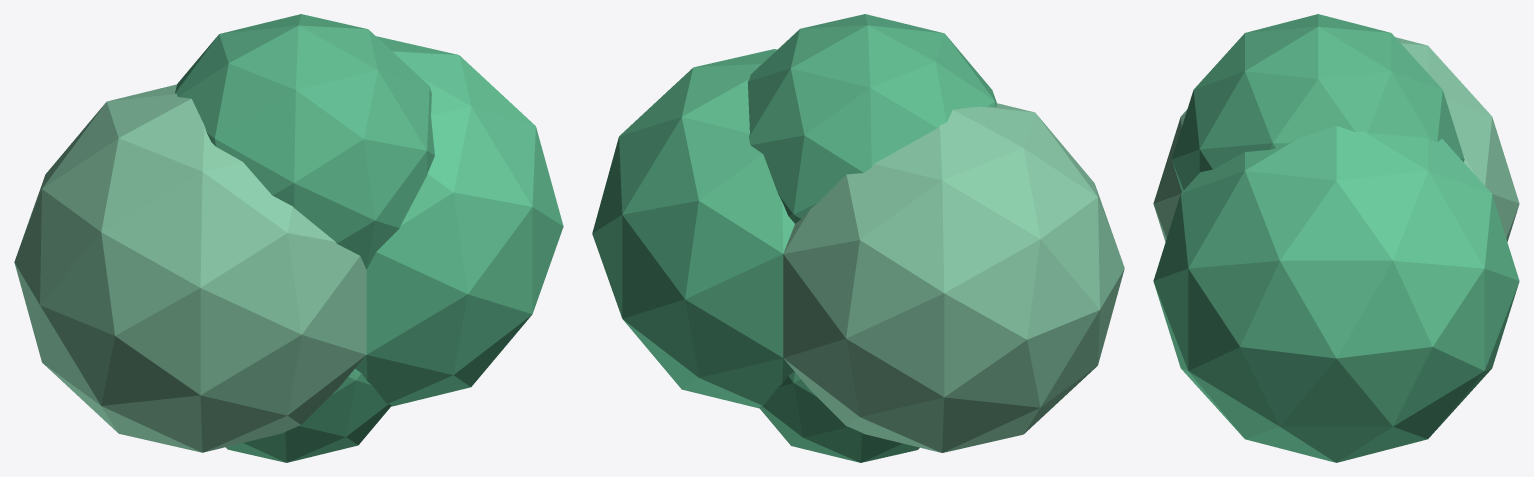
File: tree-bush.glb
The picture shows the model from 3 angles, left to right: view 1: azimuth 30°, elevation 25°; view 2: azimuth 150°, elevation 25°; view 3: azimuth 270°, elevation 25°; orthographic projection. The views are drawn at different scales.
Visible parts, largest first — view 1: world; view 2: world; view 3: world.
Boxes of the visible parts, x1,y1,x2,y2 form: world: (14,14,563,462); world: (592,14,1124,462); world: (1153,14,1519,462).
Size of the model in its own units: 3 by 2.5 by 2.
